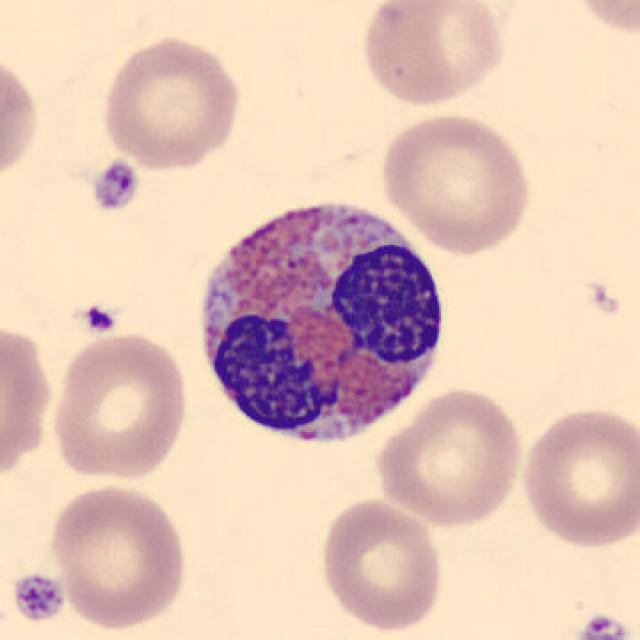Eosinophil: (185, 182, 460, 462)
Platelets: (9, 570, 67, 624), (89, 157, 140, 215), (571, 610, 633, 640), (80, 301, 119, 337)
RBC: (377, 109, 535, 256), (46, 330, 192, 485), (372, 384, 528, 529), (43, 482, 192, 632), (98, 32, 245, 173), (315, 495, 446, 635), (516, 402, 638, 550), (357, 0, 510, 109), (0, 317, 57, 487), (0, 48, 43, 188), (563, 0, 640, 39)
